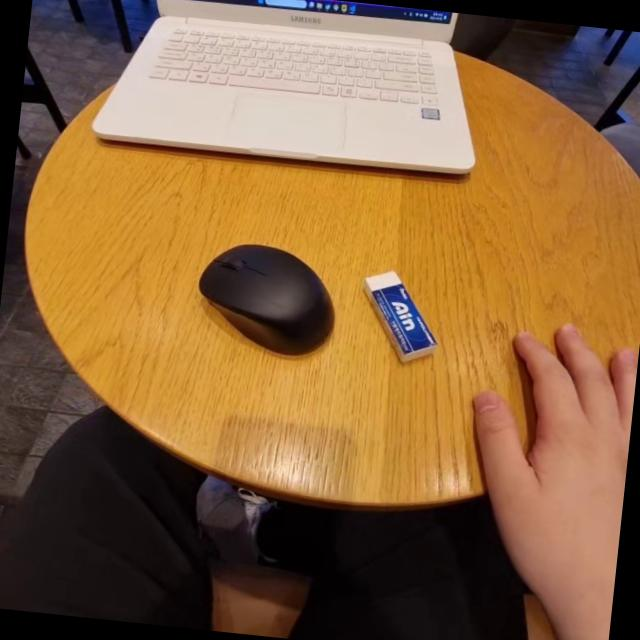eraser: (358, 257, 472, 379)
hand: (459, 306, 640, 582)
mouse: (184, 233, 353, 372)
